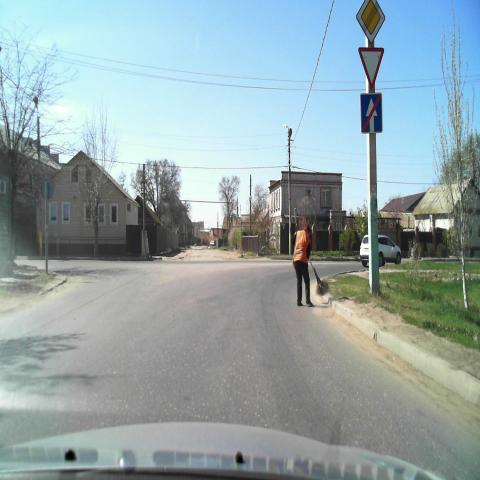5_6: (360, 91, 384, 136)
